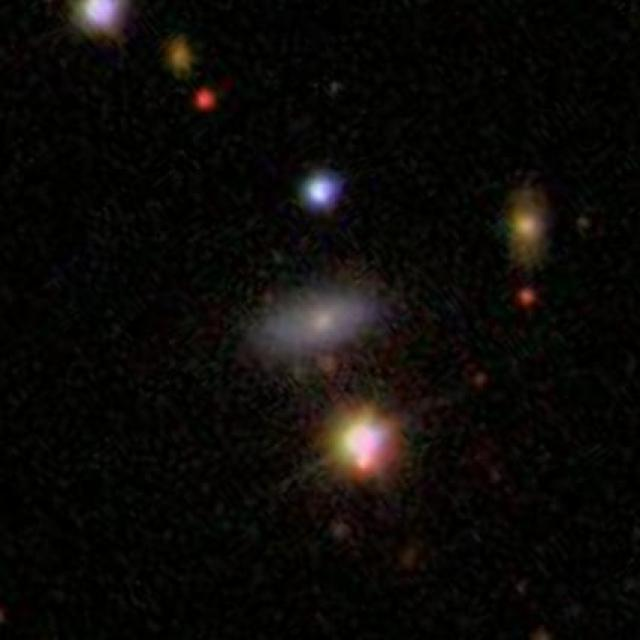galaxy: (247, 280, 387, 366), (503, 186, 553, 279), (69, 1, 136, 50), (297, 168, 347, 219), (161, 34, 202, 83), (513, 283, 541, 313), (327, 521, 354, 544), (194, 90, 219, 114), (467, 368, 491, 390)
star: (272, 364, 455, 522)
